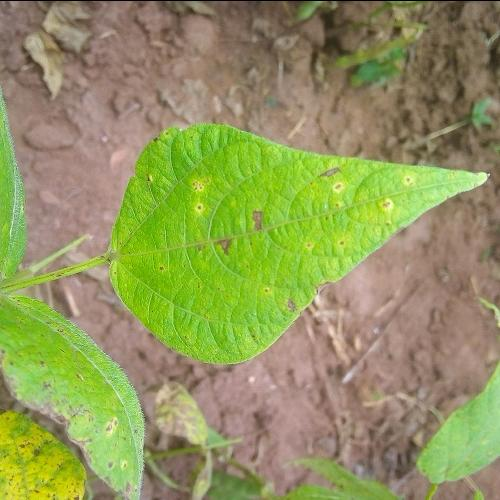hawar: (187, 229, 238, 262), (316, 156, 346, 191), (308, 260, 326, 290), (250, 208, 264, 228), (282, 298, 297, 316)
mozaik: (136, 268, 267, 346), (166, 132, 287, 193), (357, 167, 419, 219)
